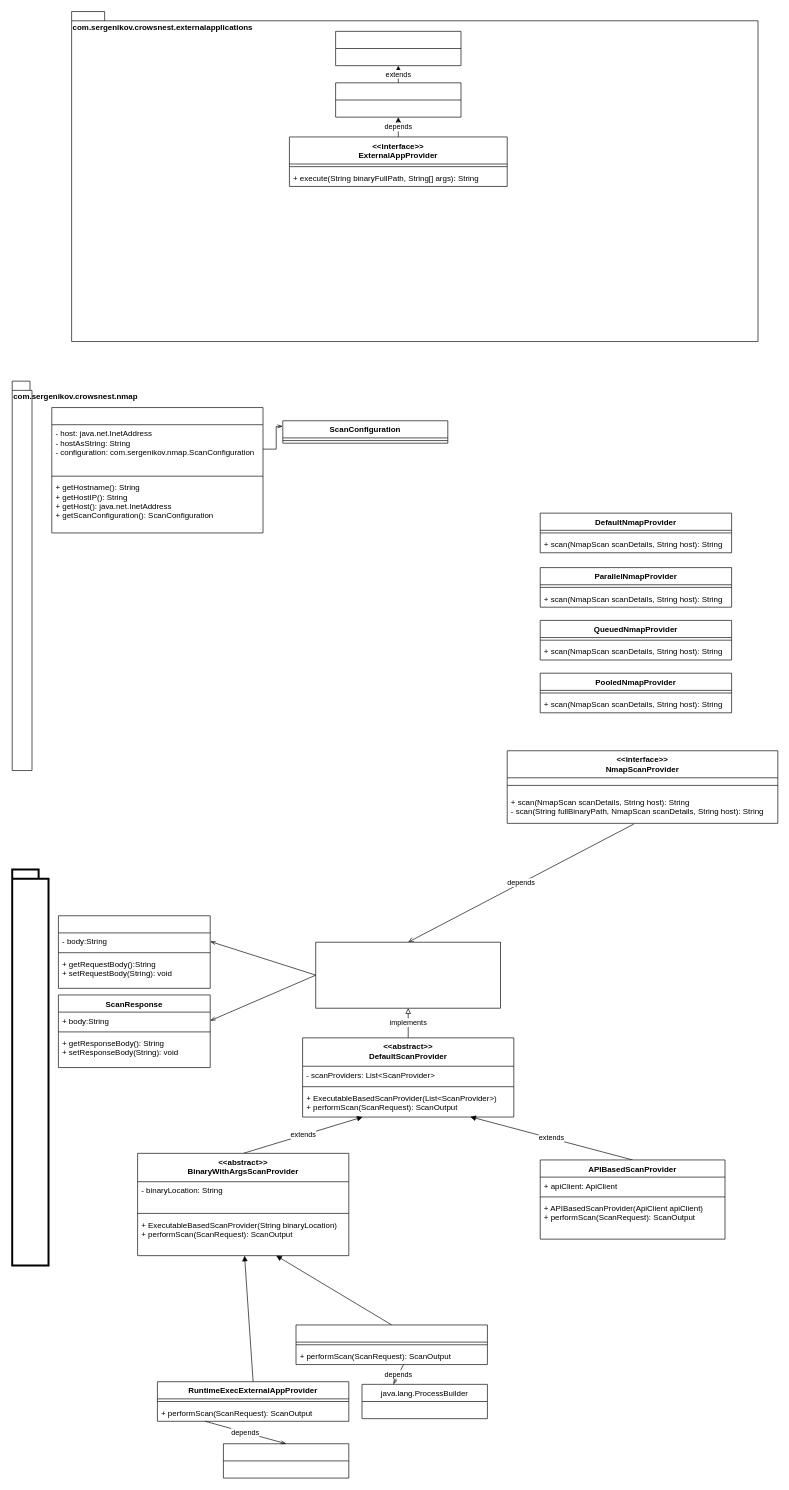
Some shapes in this 789 by 1490 pixel diagram are drawn without their labels. Here are the shapes that lost their labels. From the top down, the box of each, then its label:
(335, 31, 461, 66): RuntimeException
(335, 82, 461, 117): ExternalAppProviderException
(51, 407, 263, 533): NmapScanContext
(58, 915, 210, 988): ScanRequest
(315, 941, 501, 1008): <<Interface>> ScanProvider + performScan(ScanRequest): ScanOutput
(11, 868, 49, 1266): com.sergenikov.crowsnest.scanprovider
(295, 1324, 487, 1365): ProcessBuilderExternalAppProvider
(223, 1443, 349, 1478): java.lang.Runtime
